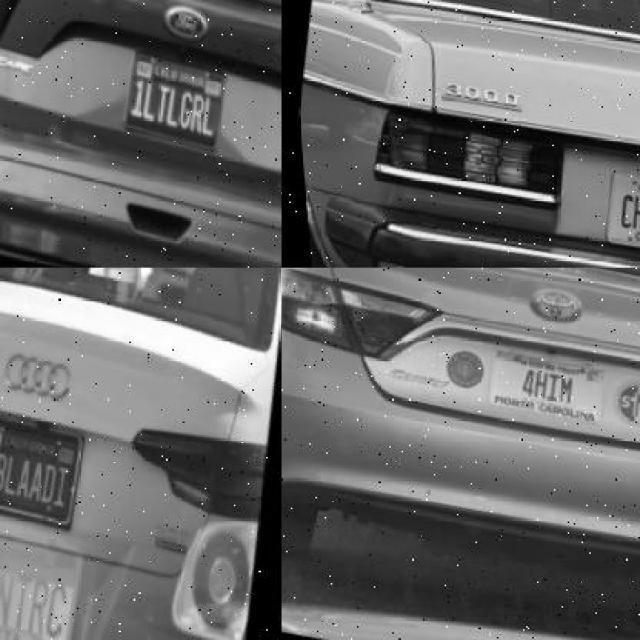LicensePlate: (112, 47, 223, 152), (479, 345, 600, 424), (0, 415, 85, 523), (595, 169, 639, 248)
